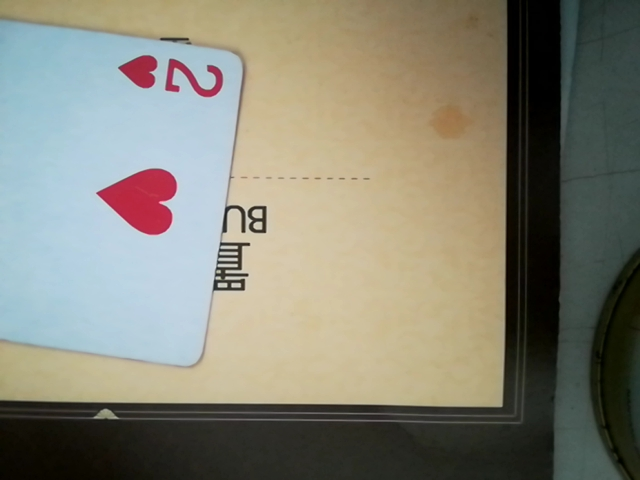hx 2: (0, 5, 241, 371)
